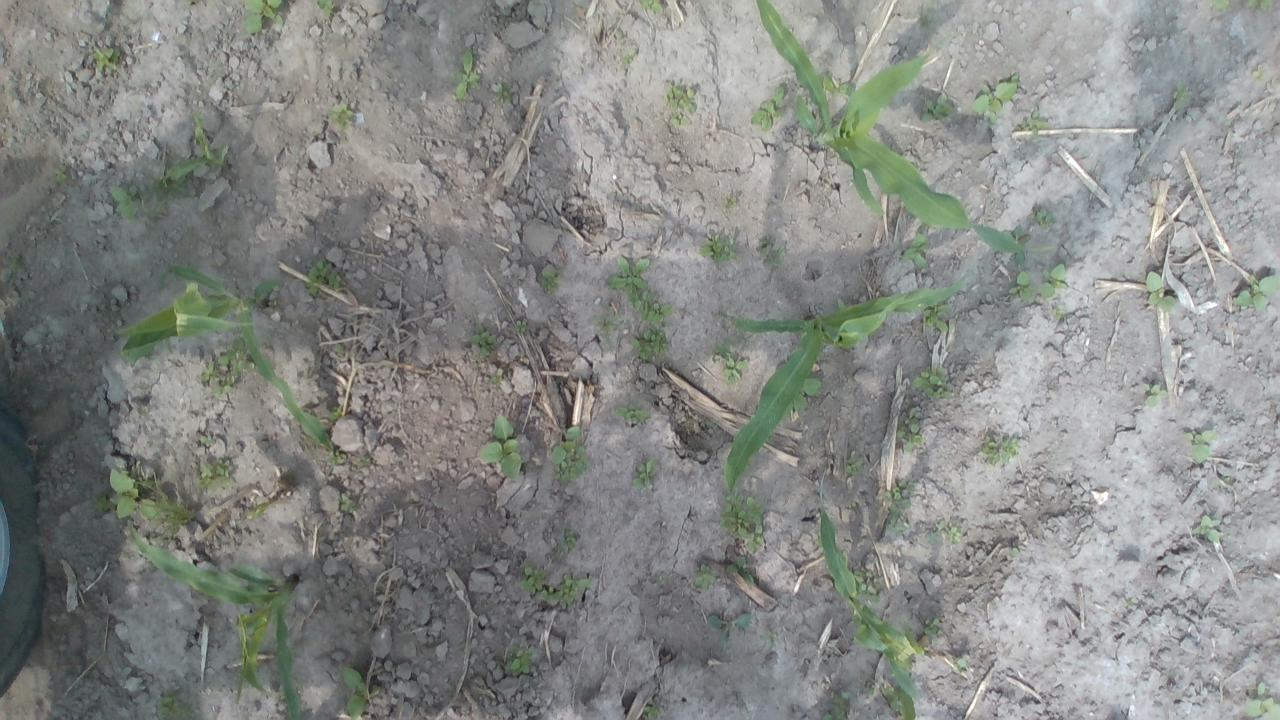Maize: (755, 0, 1055, 262), (724, 272, 972, 498), (111, 264, 333, 454), (130, 517, 306, 720), (820, 502, 926, 720)
Weeds: (109, 461, 191, 540), (166, 111, 231, 177), (479, 414, 526, 480), (142, 168, 190, 220), (972, 75, 1021, 122), (550, 426, 589, 484), (606, 256, 652, 302), (342, 666, 380, 718), (750, 84, 790, 130), (536, 574, 593, 605), (722, 495, 763, 537), (713, 338, 748, 386), (1234, 274, 1278, 312), (242, 0, 286, 34), (665, 80, 697, 126), (886, 481, 916, 530), (912, 367, 953, 402), (203, 357, 238, 398), (452, 50, 480, 100), (1244, 682, 1280, 720), (1144, 271, 1178, 311), (306, 260, 342, 297), (708, 612, 749, 644), (631, 292, 674, 322), (896, 408, 924, 454), (786, 378, 821, 414), (868, 681, 904, 715), (1184, 427, 1217, 464), (981, 435, 1020, 465), (634, 328, 668, 362), (1037, 263, 1068, 299), (699, 234, 738, 262), (920, 92, 954, 124), (198, 459, 232, 491), (226, 336, 254, 374), (1016, 107, 1048, 140), (110, 185, 140, 220), (157, 690, 193, 719), (902, 232, 930, 266), (470, 323, 496, 359), (304, 358, 334, 387), (1009, 268, 1035, 301), (632, 456, 658, 489), (1192, 516, 1222, 544), (1012, 224, 1032, 264), (727, 557, 754, 586), (757, 235, 784, 264), (508, 645, 534, 675), (852, 571, 880, 598), (930, 521, 961, 545), (923, 302, 949, 330), (93, 46, 121, 72), (821, 73, 852, 96), (329, 104, 356, 130), (828, 690, 851, 720), (596, 306, 622, 332), (521, 564, 546, 591), (694, 564, 718, 592), (614, 404, 648, 423), (1144, 382, 1168, 407), (540, 268, 561, 294), (1032, 206, 1056, 226), (845, 453, 864, 476), (923, 618, 942, 640), (1212, 475, 1234, 494), (495, 82, 514, 102), (317, 0, 338, 17), (247, 504, 269, 520), (644, 701, 662, 720), (951, 655, 969, 674), (621, 48, 638, 68), (1174, 84, 1188, 108), (746, 532, 764, 550), (92, 494, 111, 511), (562, 530, 578, 550), (490, 367, 504, 389), (53, 166, 70, 184), (340, 493, 355, 513), (641, 0, 662, 14), (328, 451, 347, 466), (1247, 0, 1272, 11), (200, 433, 218, 448), (330, 404, 346, 420), (918, 11, 933, 28), (9, 251, 23, 269), (355, 455, 371, 470), (1052, 305, 1066, 320), (1122, 596, 1139, 608), (1212, 0, 1232, 10), (1253, 67, 1267, 81), (764, 632, 778, 646), (726, 195, 738, 209), (654, 574, 668, 586), (616, 28, 628, 42), (1008, 546, 1021, 558), (516, 320, 528, 333)
